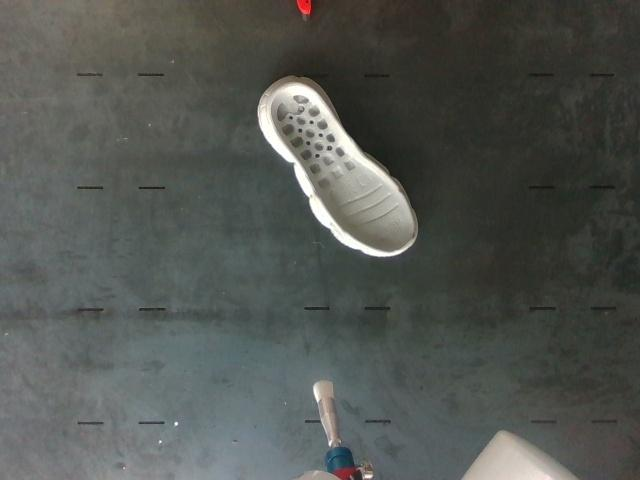shoes: (269, 83, 416, 252)
